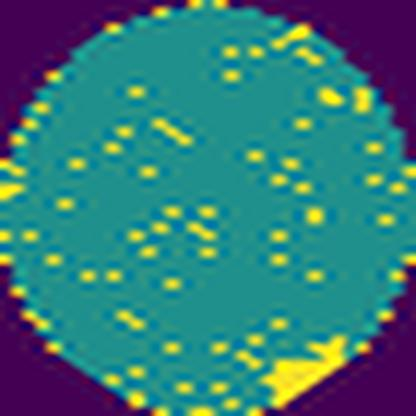Edge-Loc: (254, 329, 358, 408)
